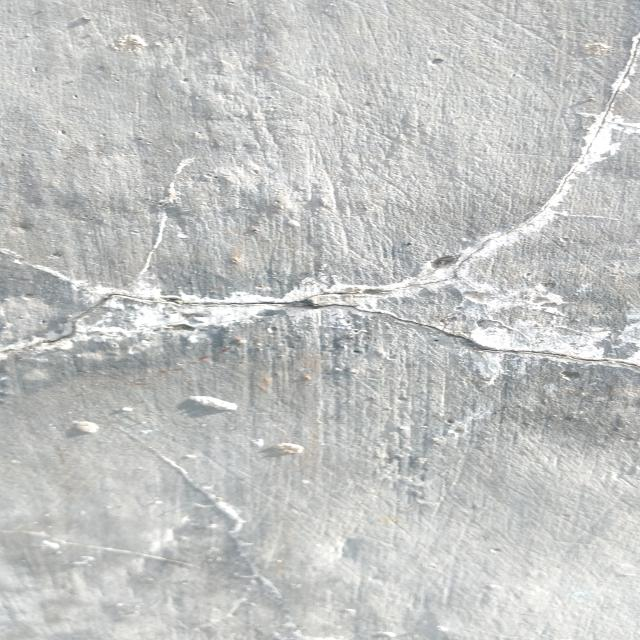Crack: (1, 277, 640, 380)
